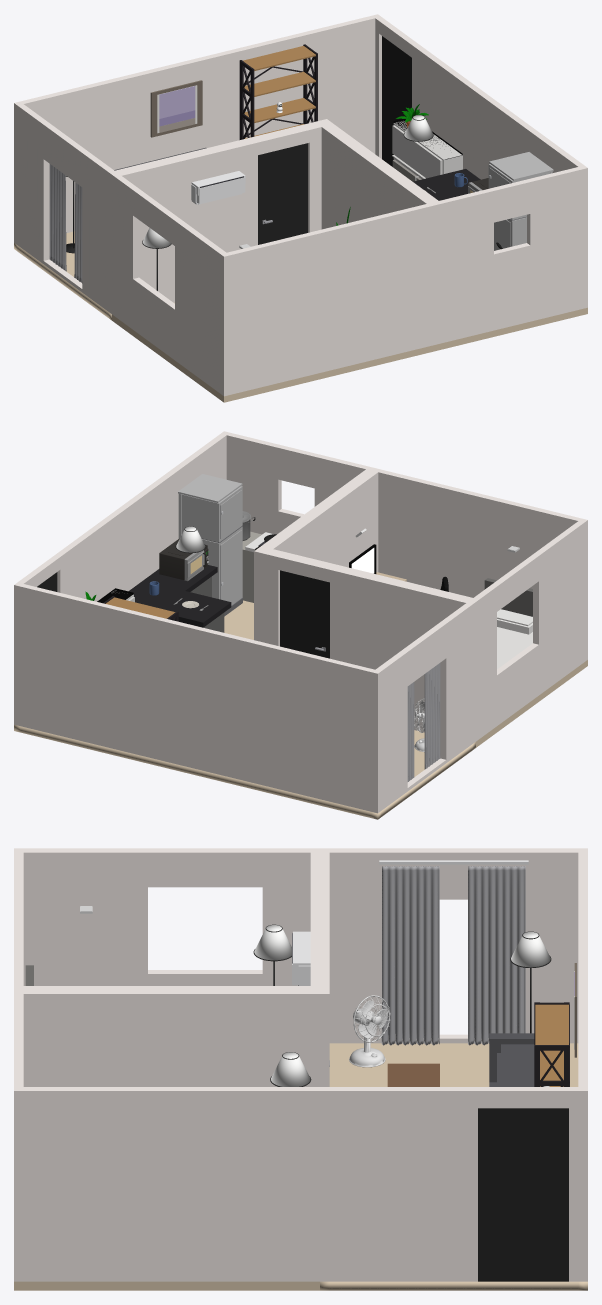
File: model_house.gltf
3 views of the same model, one above another, from view 1: azimuth 30°, elevation 25°; view 2: azimuth 150°, elevation 25°; view 3: azimuth 270°, elevation 25° (orthographic). The views are drawn at different scales.
Visible parts, largest first — view 1: bed_wall_-y, living_wall_+y, kitchen_wall_-y, bed_wall_-x, bed_wall_+y, living_wall_-x, bed_wall_+x, living_wall_+x, kitchen_wall_+x, living_shelf, bed_door_living, living_door_entrance (+15 smaller); view 2: living_wall_+y, bed_wall_-y, bed_wall_-x, living_wall_-y, living_wall_-x, kitchen_wall_-y, kitchen_wall_+x, bed_wall_+x, living_wall_+x, living_door_bed, living_plane, kitchen_table_top (+17 smaller); view 3: kitchen_wall_+x, living_wall_+x, bed_wall_-x, kitchen_wall_-x, living_wall_-x, living_door_entrance, living_curtain_left, living_curtain_right, living_plane, living_wall_+y, kitchen_plane, living_shelf (+15 smaller).
Boxes of the visible parts, x1,y1,x2,y2 form: bed_wall_-y: (220,202,436,395); living_wall_+y: (14,14,380,243); kitchen_wall_-y: (436,166,587,344); bed_wall_-x: (112,175,229,396); bed_wall_+y: (112,123,327,315); living_wall_-x: (14,101,117,313); bed_wall_+x: (318,123,436,345); living_wall_+x: (372,14,475,171); kitchen_wall_+x: (470,86,587,308); living_shelf: (239,44,317,139); bed_door_living: (258,143,307,244); living_door_entrance: (382,36,411,166); living_wall_+y: (14,583,381,812); bed_wall_-y: (372,468,587,652); bed_wall_-x: (470,519,587,741); living_wall_-y: (254,548,475,741); living_wall_-x: (372,600,475,813); kitchen_wall_-y: (221,432,369,534); kitchen_wall_+x: (112,431,229,591); bed_wall_+x: (264,468,380,572); living_wall_+x: (14,513,117,725); living_door_bed: (280,570,329,658); living_plane: (14,724,475,819); kitchen_table_top: (128,565,231,627); kitchen_wall_+x: (14,1087,319,1281); living_wall_+x: (320,1087,587,1281); bed_wall_-x: (14,848,319,985); kitchen_wall_-x: (14,990,319,1086); living_wall_-x: (320,848,587,1043); living_door_entrance: (478,1108,568,1281); living_curtain_left: (381,866,439,1045); living_curtain_right: (468,866,525,1045); living_plane: (320,1043,587,1290); living_wall_+y: (578,848,587,1281); kitchen_plane: (14,1281,319,1290); living_shelf: (534,1002,569,1086).
Bounding box in the file's own units: 6 × 2.3 × 6.
